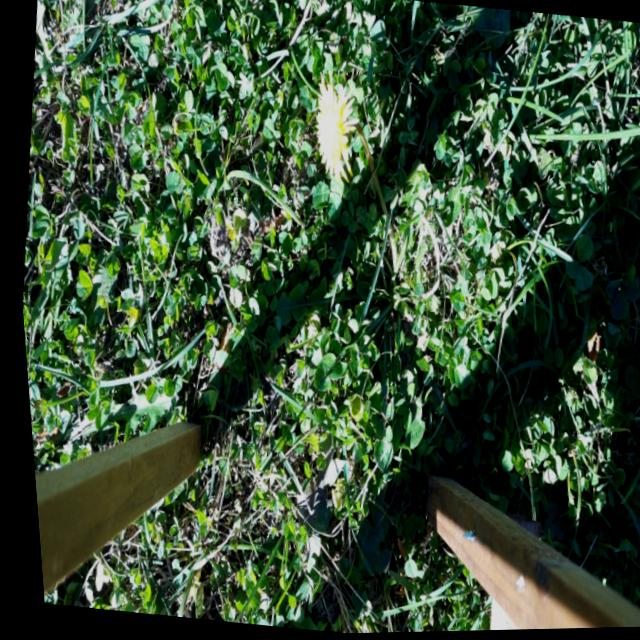base: (374, 251, 405, 297)
